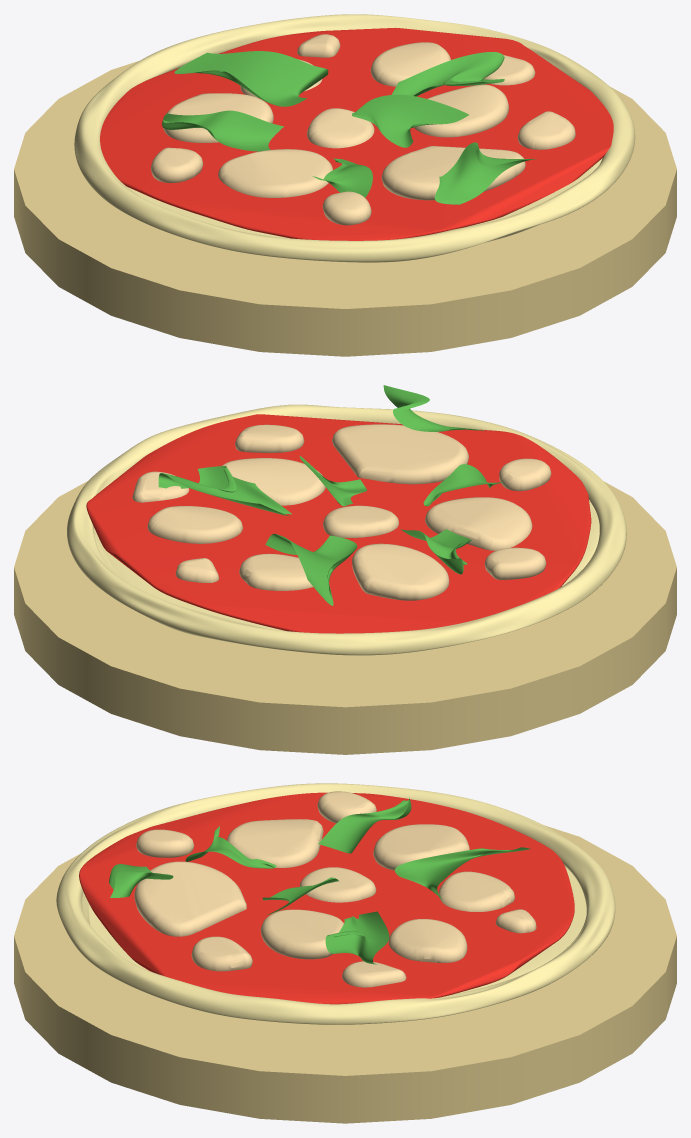
Rendered from pizza.fbx.
3 renders of one model, top to bottom at view 1: azimuth 30°, elevation 25°; view 2: azimuth 150°, elevation 25°; view 3: azimuth 270°, elevation 25°, orthographic.
Visible parts, largest first — view 1: p.1170, s.1184, s.1182, s.1212, s.1191, s.1186, s.1209, s.1187, s.1211, s.1213, s.1210, s.1190 (+8 smaller); view 2: p.1170, s.1184, s.1182, s.1186, s.1190, s.1191, s.1187, s.1188, s.1210, s.1212, s.1189, s.1192 (+9 smaller); view 3: p.1170, s.1184, s.1182, s.1186, s.1191, s.1187, s.1190, s.1188, s.1189, s.1210, s.1212, s.1192 (+9 smaller).
Part boxes in pixels (<box>): p.1170: <box>14,61,676,356</box>; s.1184: <box>100,27,613,240</box>; s.1182: <box>74,14,635,262</box>; s.1212: <box>174,51,328,106</box>; s.1191: <box>218,149,332,197</box>; s.1186: <box>381,146,525,200</box>; s.1209: <box>352,94,469,147</box>; s.1187: <box>413,84,508,137</box>; s.1211: <box>162,110,283,151</box>; s.1213: <box>434,142,536,204</box>; s.1210: <box>391,52,504,96</box>; s.1190: <box>163,93,273,142</box>; p.1170: <box>14,480,676,754</box>; s.1184: <box>86,414,591,633</box>; s.1182: <box>67,404,626,655</box>; s.1186: <box>332,424,468,484</box>; s.1190: <box>352,543,449,600</box>; s.1191: <box>425,497,532,550</box>; s.1187: <box>222,458,325,505</box>; s.1188: <box>147,506,242,543</box>; s.1210: <box>158,466,291,516</box>; s.1212: <box>265,533,357,605</box>; s.1189: <box>239,553,312,590</box>; s.1192: <box>323,505,398,537</box>; p.1170: <box>14,825,676,1123</box>; s.1184: <box>79,792,574,1004</box>; s.1182: <box>56,783,615,1024</box>; s.1186: <box>134,861,246,936</box>; s.1191: <box>226,819,323,867</box>; s.1187: <box>260,909,343,959</box>; s.1190: <box>373,824,469,870</box>; s.1188: <box>388,919,467,962</box>; s.1189: <box>439,871,514,911</box>; s.1210: <box>325,911,389,964</box>; s.1212: <box>394,847,530,899</box>; s.1192: <box>300,867,376,902</box>.
Size of the model in its own units: 76.36 by 16.47 by 76.36.
